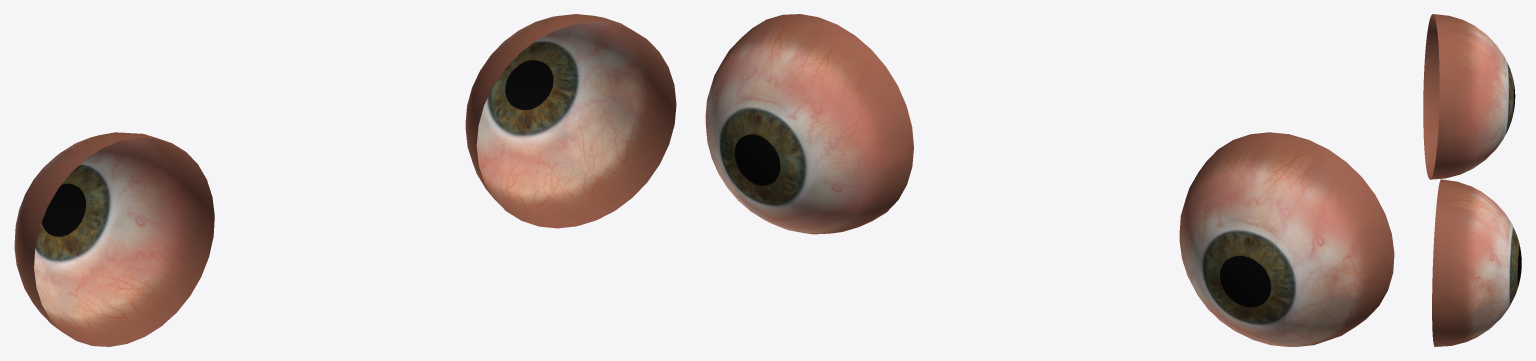
File: eyes.obj
3 views of the same model, side by side, from view 1: azimuth 30°, elevation 25°; view 2: azimuth 150°, elevation 25°; view 3: azimuth 270°, elevation 25° (orthographic). The views are drawn at different scales.
Visible parts, largest first — view 1: mrus_head_eyes; view 2: mrus_head_eyes; view 3: mrus_head_eyes.
Part boxes in pixels (x1,y1,x2,y2): mrus_head_eyes: (14,14,676,346); mrus_head_eyes: (705,14,1394,346); mrus_head_eyes: (1423,14,1521,346).
Size of the model in its own units: 0.0885 by 0.0265 by 0.0154.
Materials: 1 (1 with a texture image).
